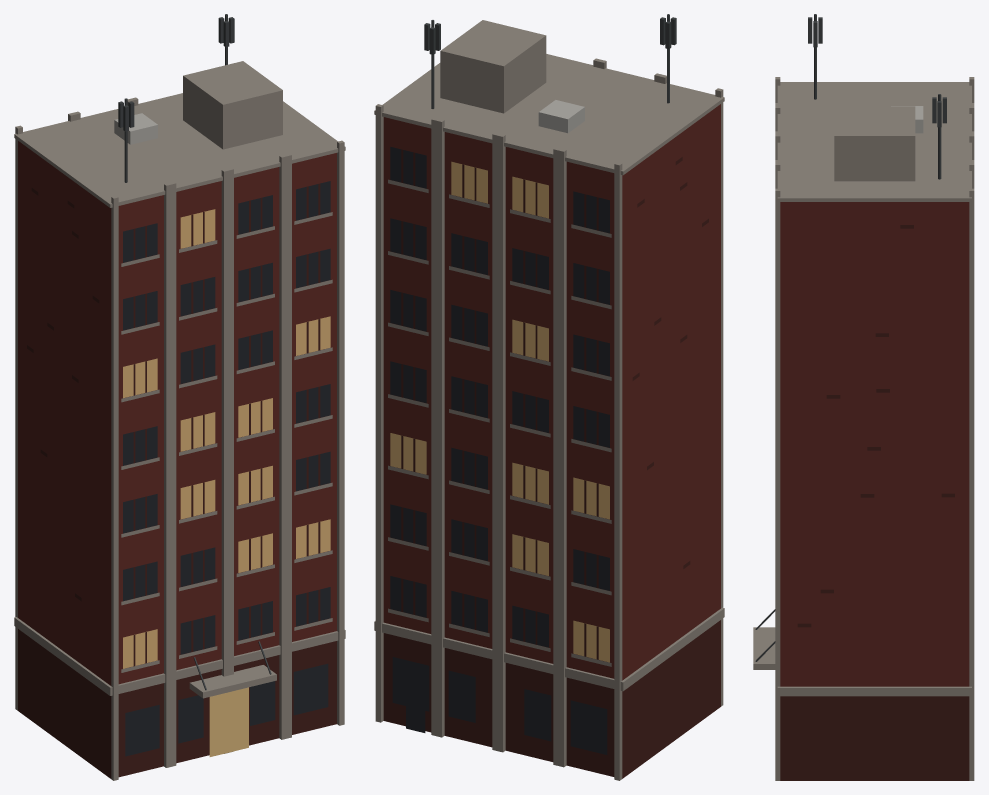
File: tour_brique.glb
The picture shows the model from 3 angles, left to right: view 1: azimuth 30°, elevation 25°; view 2: azimuth 150°, elevation 25°; view 3: azimuth 270°, elevation 25°; orthographic projection. The views are drawn at different scales.
Parts seen in each view (by area): view 1: tour_brique; view 2: tour_brique; view 3: tour_brique.
Boxes of the visible parts, x1,y1,x2,y2 form: tour_brique: (14, 14, 345, 780); tour_brique: (374, 14, 724, 780); tour_brique: (753, 14, 974, 780).
Size of the model in its own units: 10.2 by 27.3 by 8.2.
